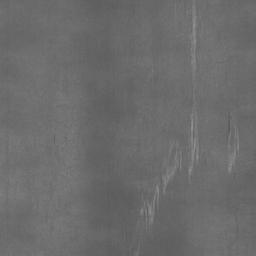Silk spot: (137, 116, 207, 222), (223, 112, 233, 149), (196, 21, 201, 72), (182, 40, 191, 59), (169, 148, 179, 165), (184, 0, 192, 21), (182, 96, 193, 106)
